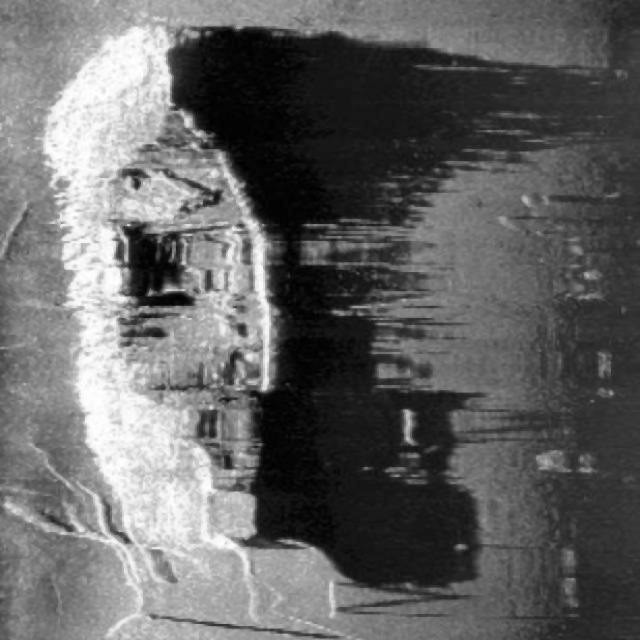Ship: (28, 13, 318, 603)
